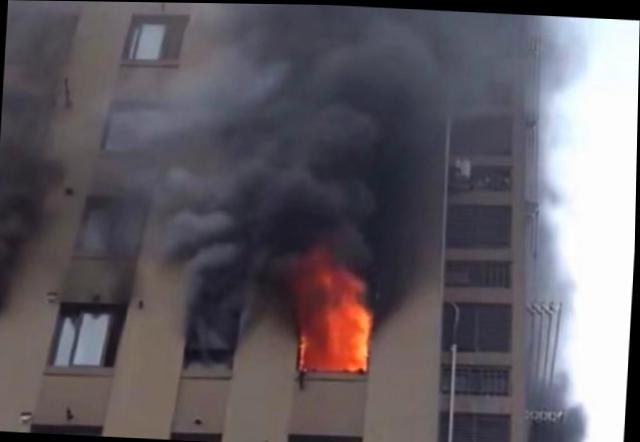fire: (302, 304, 376, 370), (328, 271, 372, 308)
